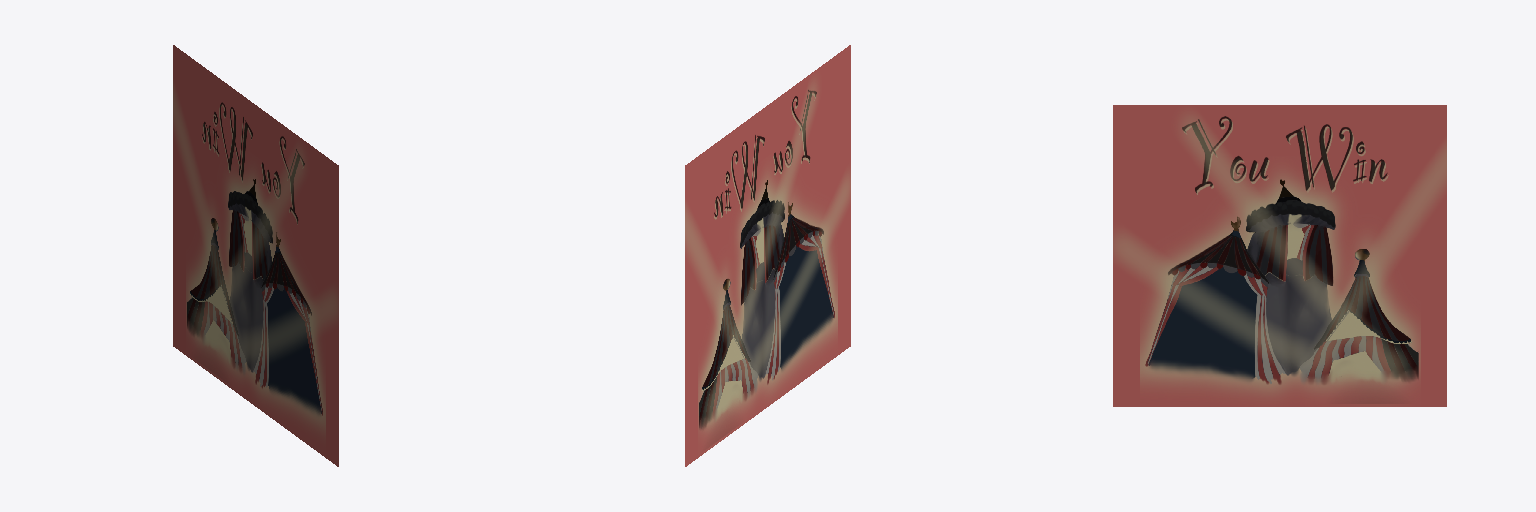
The picture shows the model from 3 angles: view 1: azimuth 30°, elevation 25°; view 2: azimuth 150°, elevation 25°; view 3: azimuth 270°, elevation 25°; orthographic projection.
Visible parts, largest first — view 1: Plane; view 2: Plane; view 3: Plane.
Boxes of the visible parts, x1,y1,x2,y2 form: Plane: [173, 45, 338, 466]; Plane: [685, 45, 850, 466]; Plane: [1113, 105, 1446, 406].
Size of the model in its own units: 0 by 2 by 2.
Materials: 1 (1 with a texture image).